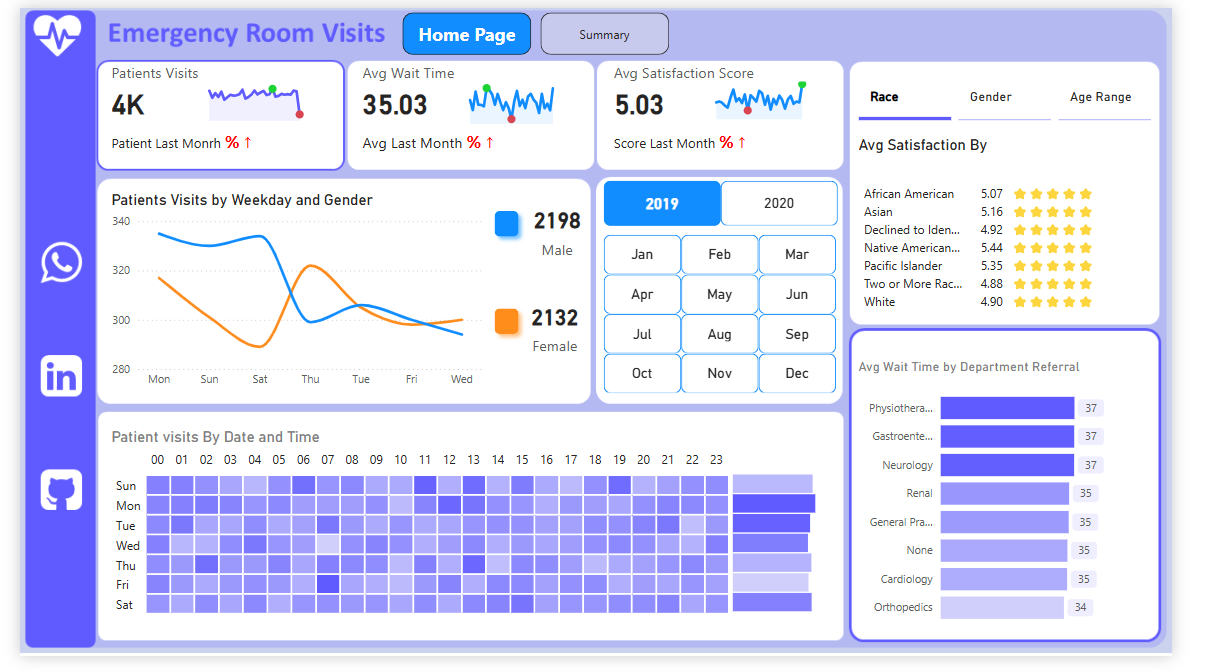

Layout of this report page (visuals, bound fields, positions):
{"tool":"powerbi","page":{"name":"Home Page","canvas":[1280,720],"ordinal":0},"visuals":[{"type":"advancedSlicerVisual","fields":{"Values":["calendar.Year"]},"box":[642.6,186.1,270.4,60.4],"z":0},{"type":"advancedSlicerVisual","fields":{"Values":["calendar.Month"]},"box":[642.6,246.5,270.4,189.3],"z":1000},{"type":"cardVisual","fields":{"Data":["calculation.Patients Visits","calculation.Avg Wait Time","calculation.Avg Satisfaction  Score"]},"box":[85.9,55.7,841.4,120.9],"z":2000},{"type":"areaChart","fields":{"Category":["calendar.Day"],"Y":["calculation.Avg Wait Time","calculation.Avg Time Min Value","calculation.Avg Time Max Value"]},"box":[482,66.8,152.7,66.8],"z":3000},{"type":"areaChart","fields":{"Category":["calendar.Day"],"Y":["calculation.Avg Satisfaction  Score","calculation.Satisfaction Min Value","calculation.Satisfaction Max Value"]},"box":[755.5,68.4,157.5,60.4],"z":4000},{"type":"areaChart","fields":{"Category":["calendar.Day"],"Y":["calculation.Patients Visits","calculation.Patient Visits Max Value","calculation.Patient Visits Min Value"]},"box":[192.5,63.6,163.8,66.8],"z":5000},{"type":"lineChart","fields":{"Y":["calculation.Patients Visits"],"Category":["calendar.Weekday"],"Series":["Hospital ER.Gender"]},"box":[97,203.6,421.5,227.5],"z":6000},{"type":"card","fields":{"Values":["calculation.Patients Visits"]},"box":[559.9,211.6,73.2,68.4],"z":7000},{"type":"card","fields":{"Values":["calculation.Patients Visits"]},"box":[553.5,308.6,81.1,89.1],"z":8000},{"type":"shape","box":[518.5,216.3,44.5,46.1],"z":9000},{"type":"shape","box":[518.5,324.5,44.5,46.1],"z":10000},{"type":"tableEx","title":"Avg Satisfaction By","fields":{"Values":["Hospital ER.Race","calculation.Avg Satisfaction  Score","calculation.Star Rating"]},"box":[927.3,141.6,335.6,206.8],"z":11000},{"type":"advancedSlicerVisual","fields":{"Values":["Sat_param.Sat_param"]},"box":[926.7,66.7,335,63.3],"z":12000},{"type":"clusteredBarChart","fields":{"Y":["calculation.Avg Wait Time"],"Category":["Hospital ER.Department Referral"]},"box":[926.7,390,333.3,306.7],"z":13000},{"type":"pivotTable","title":"Patient visits By Date and Time","fields":{"Rows":["calendar.Weekday"],"Columns":["Hospital ER.Hour"],"Values":["calculation.Patients Visits"]},"box":[97,466,725.3,229],"z":14000},{"type":"clusteredBarChart","fields":{"Category":["calendar.Weekday"],"Y":["calculation.Patients Visits"]},"box":[787.4,505.8,122.5,170.2],"z":15000},{"type":"pageNavigator","box":[424.7,4.8,297.4,47.7],"z":16000}]}

Visuals, with their boxes in screenshot pixels (x1, y1, x2, y2), scaled from the page's 1280x720 canvas onto the 1208x672 screenshot:
advancedSlicerVisual - calendar.Year: 606, 174, 862, 230
advancedSlicerVisual - calendar.Month: 606, 230, 862, 407
cardVisual - calculation.Patients Visits x calculation.Avg Wait Time: 81, 52, 875, 165
areaChart - calendar.Day x calculation.Avg Wait Time: 455, 62, 599, 125
areaChart - calendar.Day x calculation.Avg Satisfaction  Score: 713, 64, 862, 120
areaChart - calendar.Day x calculation.Patients Visits: 182, 59, 336, 122
lineChart - calculation.Patients Visits x calendar.Weekday: 92, 190, 489, 402
card - calculation.Patients Visits: 528, 197, 597, 261
card - calculation.Patients Visits: 522, 288, 599, 371
shape: 489, 202, 531, 245
shape: 489, 303, 531, 346
"Avg Satisfaction By" tableEx: 875, 132, 1192, 325
advancedSlicerVisual - Sat_param.Sat_param: 875, 62, 1191, 121
clusteredBarChart - calculation.Avg Wait Time x Hospital ER.Department Referral: 875, 364, 1189, 650
"Patient visits By Date and Time" pivotTable: 92, 435, 776, 649
clusteredBarChart - calendar.Weekday x calculation.Patients Visits: 743, 472, 859, 631
pageNavigator: 401, 4, 681, 49
